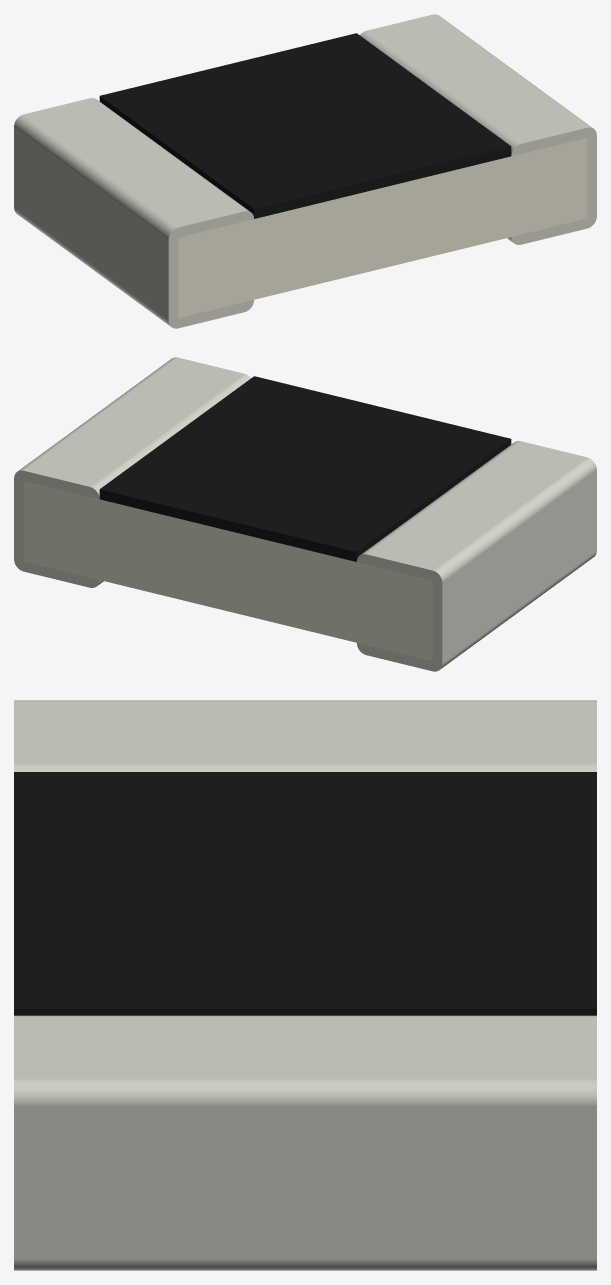
Rendered from Fuse_0805_2012Metric.glb.
The picture shows the model from 3 angles, top to bottom: view 1: azimuth 30°, elevation 25°; view 2: azimuth 150°, elevation 25°; view 3: azimuth 270°, elevation 25°; orthographic projection. The views are drawn at different scales.
Visible parts, largest first — view 1: =>[0:1:1:3]; view 2: =>[0:1:1:3]; view 3: =>[0:1:1:3].
Boxes of the visible parts, box(x1,y1,x2,y2) form: =>[0:1:1:3]: box(14, 14, 596, 328); =>[0:1:1:3]: box(14, 357, 596, 671); =>[0:1:1:3]: box(14, 700, 596, 1270).
Size of the model in its own units: 0.002 by 0.00045 by 0.00125.
